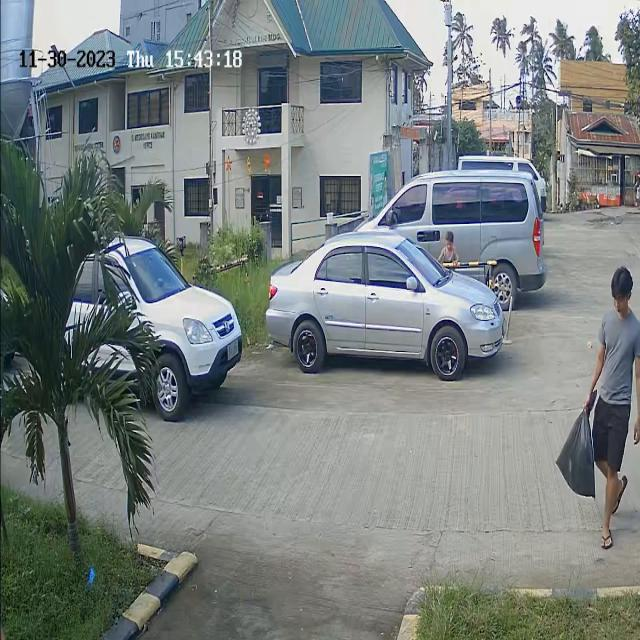garbage: (556, 382, 602, 504)
person: (587, 270, 638, 400)
